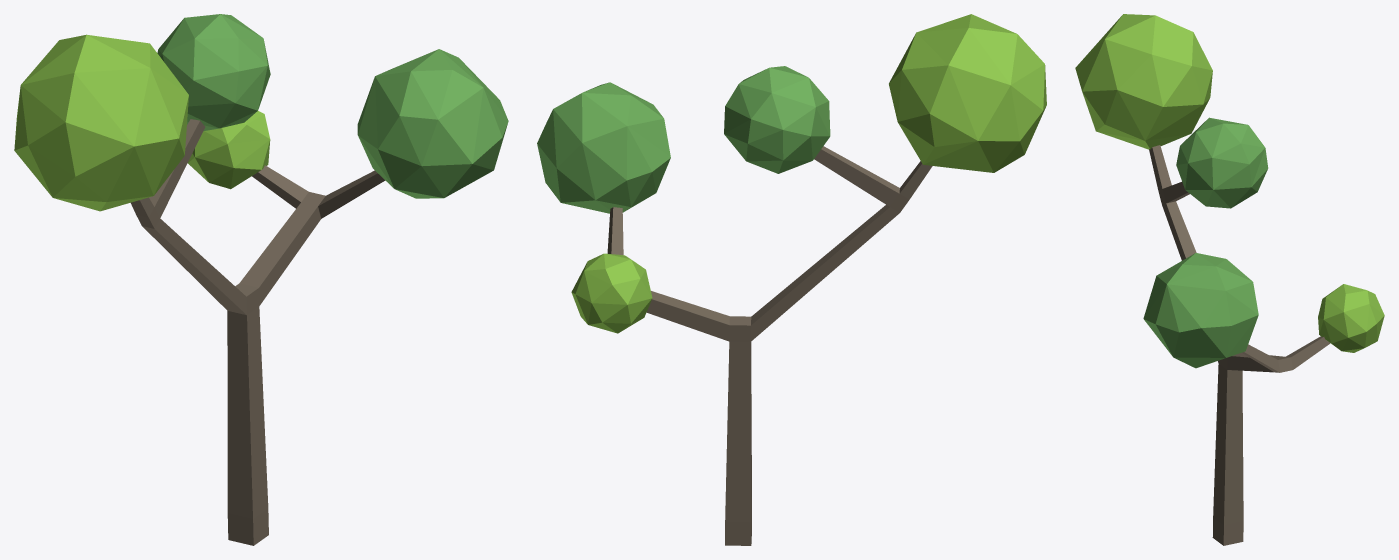
The model's file is tree2.fbx.
The picture shows the model from 3 angles, left to right: view 1: azimuth 30°, elevation 25°; view 2: azimuth 150°, elevation 25°; view 3: azimuth 270°, elevation 25°; orthographic projection. The views are drawn at different scales.
Parts seen in each view (by area): view 1: Sphere, Cube, Sphere_3, Sphere_1, Sphere_2; view 2: Sphere, Cube, Sphere_3, Sphere_1, Sphere_2; view 3: Sphere, Sphere_3, Cube, Sphere_1, Sphere_2.
Boxes of the visible parts, x1,y1,x2,y2 form: Sphere: (14,34,188,211); Cube: (131,119,384,545); Sphere_3: (357,49,508,198); Sphere_1: (157,14,270,130); Sphere_2: (188,111,270,189); Sphere: (889,14,1046,172); Cube: (607,146,932,545); Sphere_3: (537,82,670,213); Sphere_1: (724,66,830,173); Sphere_2: (571,253,652,333); Sphere: (1075,14,1212,149); Sphere_3: (1143,253,1258,368); Cube: (1149,145,1330,545); Sphere_1: (1176,117,1268,208); Sphere_2: (1318,284,1384,352).
Bounding box in the file's own units: 1504 × 1645 × 1032.
